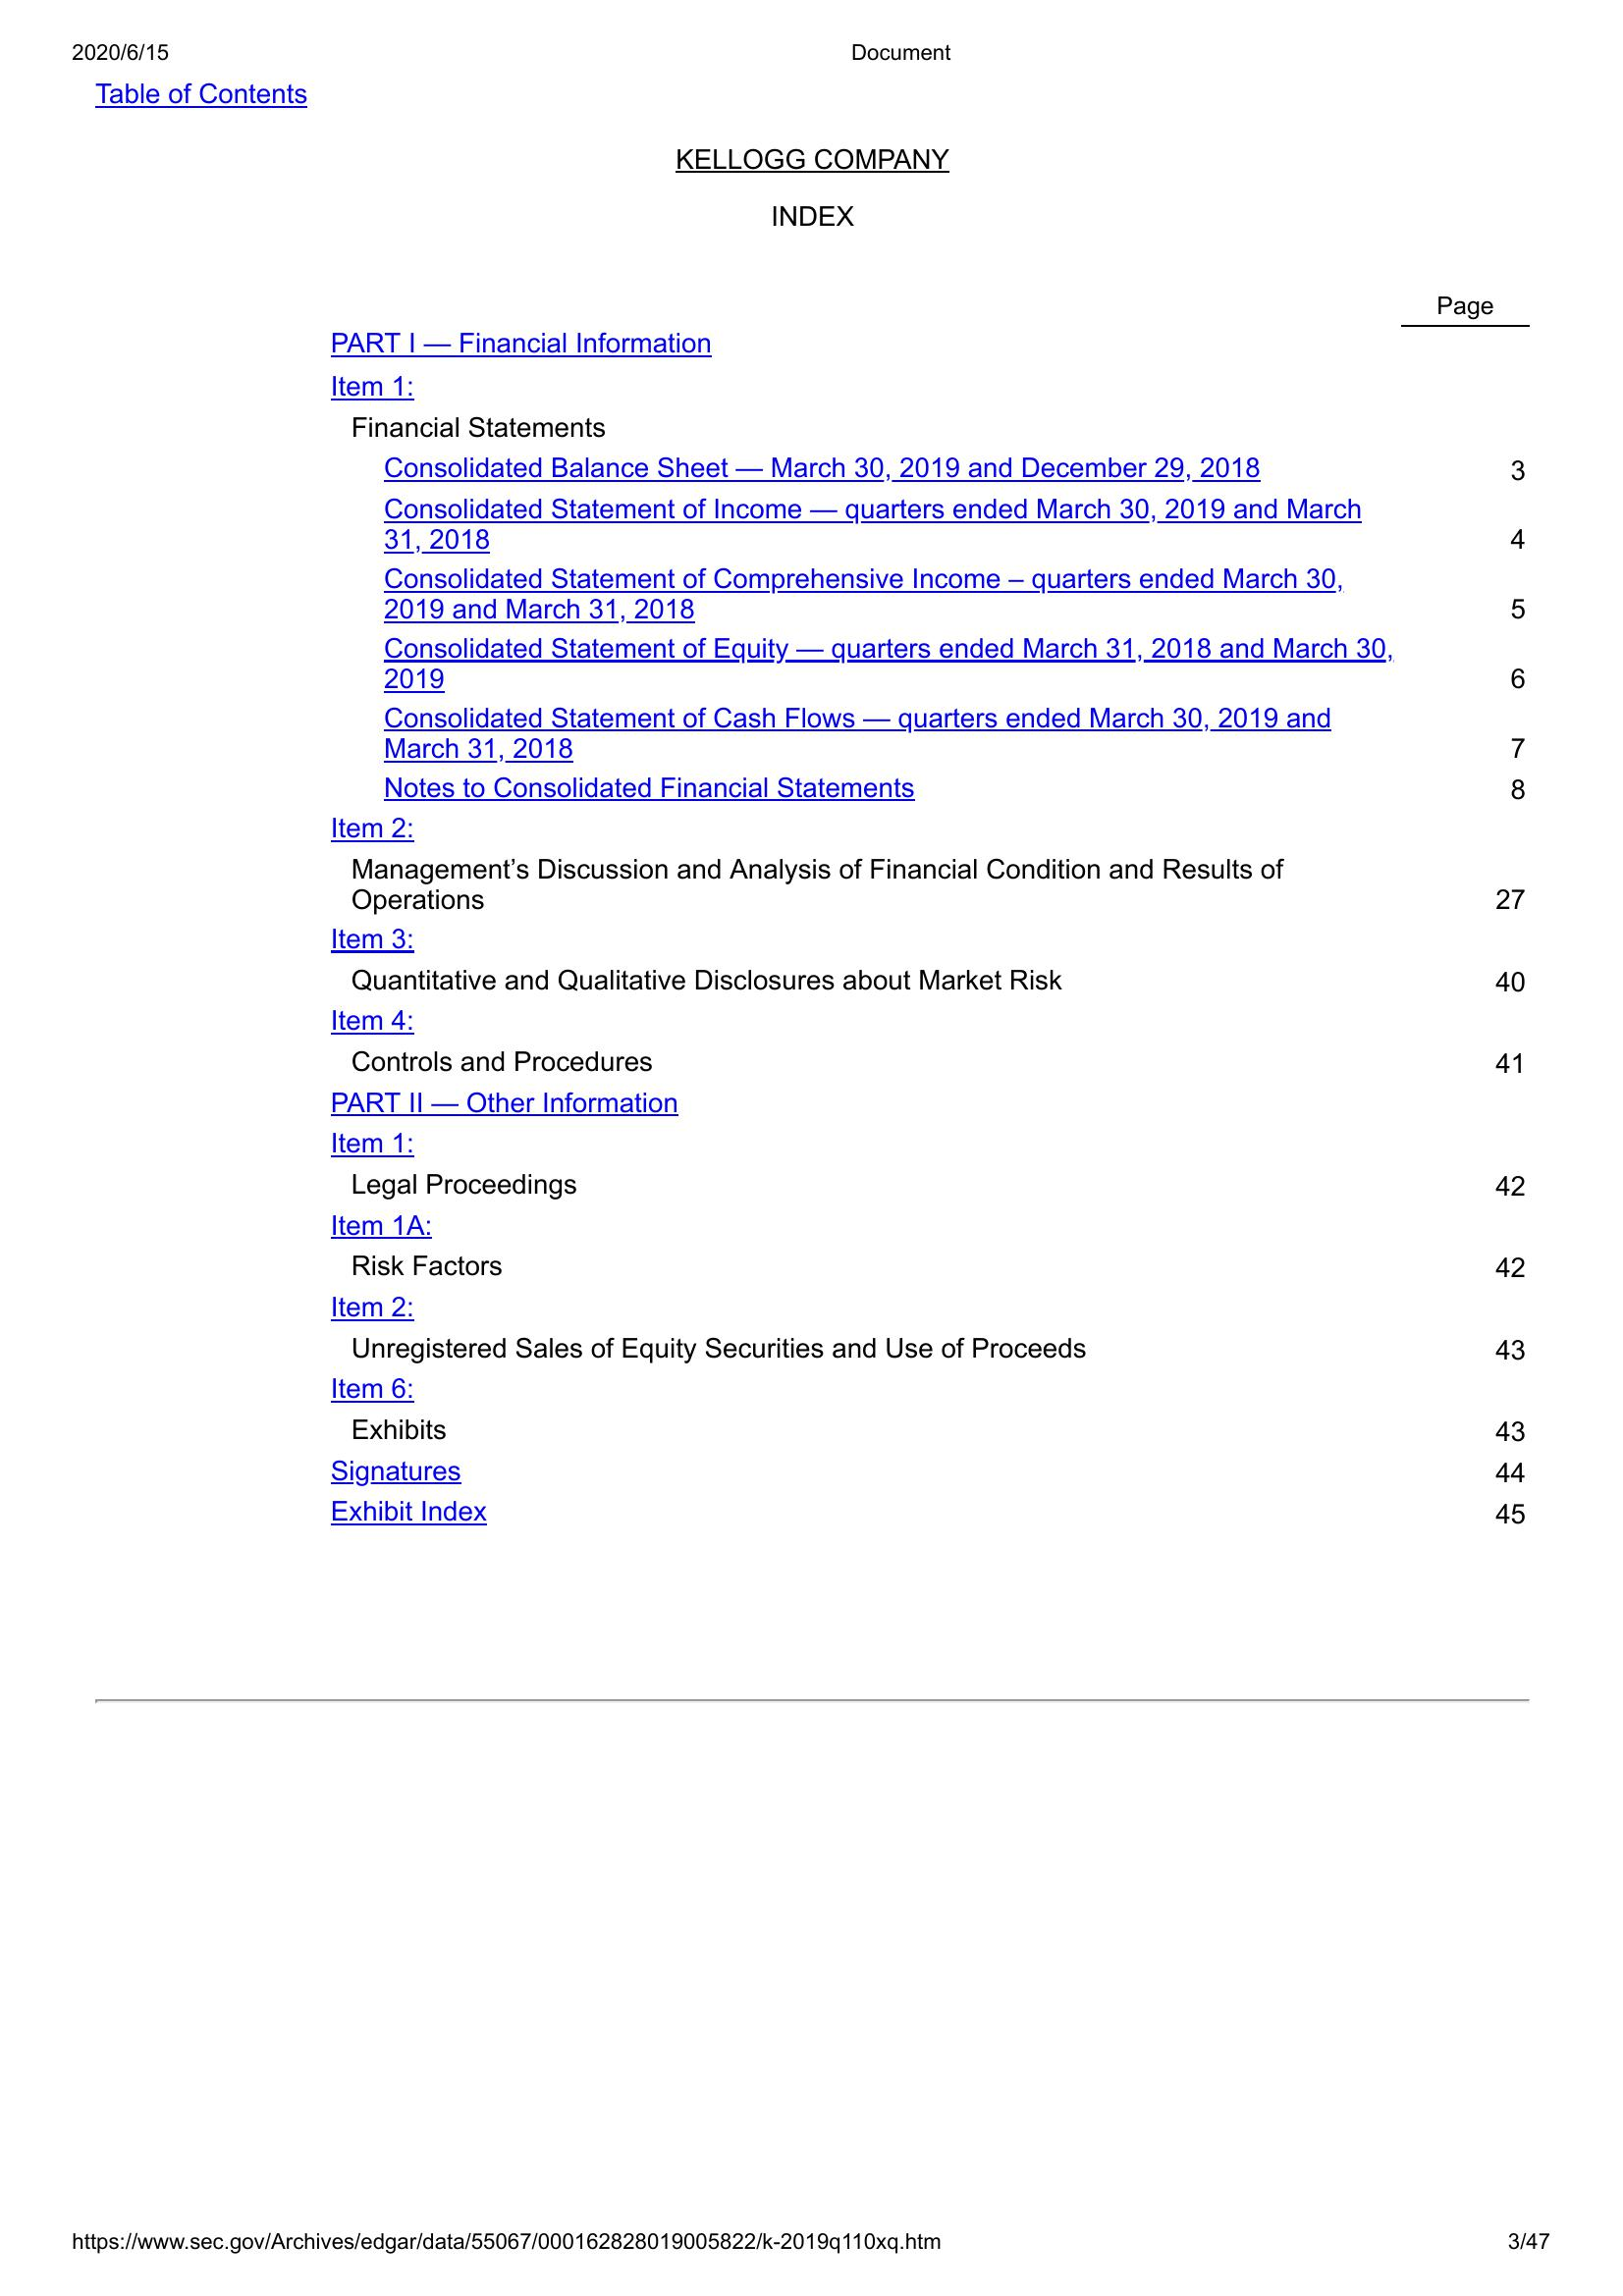table: (285, 295, 1542, 1534)
